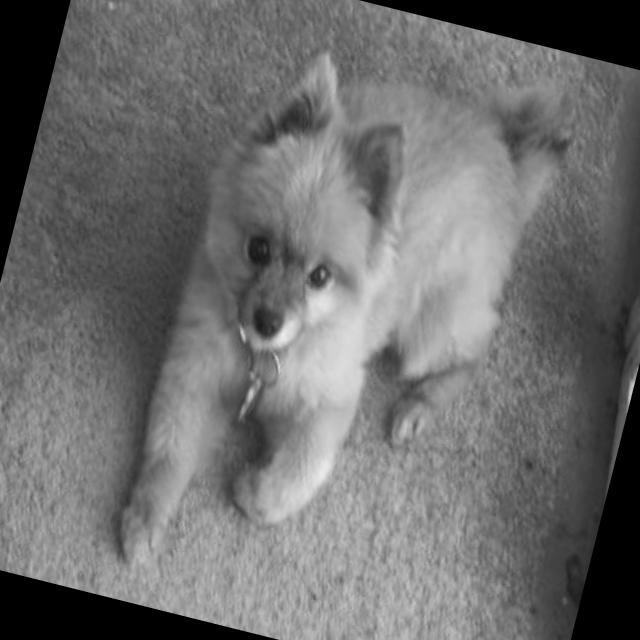laying down: (97, 1, 600, 640)
